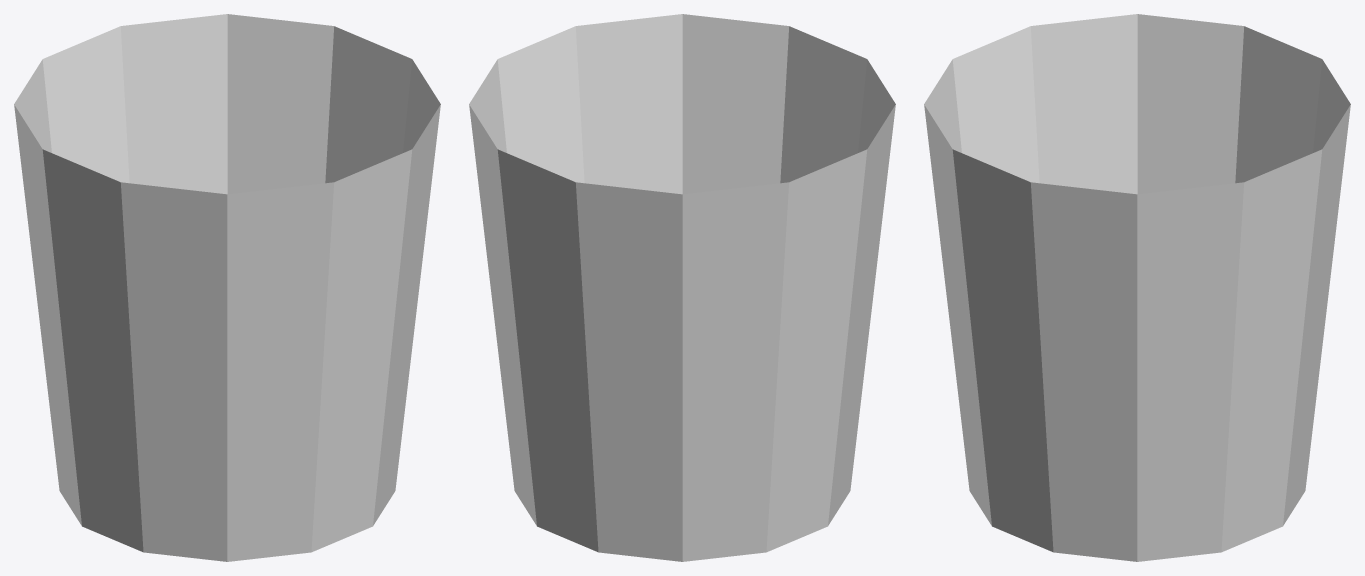
The model's file is pickup.fbx.
3 renders of one model, left to right at view 1: azimuth 30°, elevation 25°; view 2: azimuth 150°, elevation 25°; view 3: azimuth 270°, elevation 25°, orthographic.
Visible parts, largest first — view 1: Cylinder; view 2: Cylinder; view 3: Cylinder.
Part boxes in pixels (left/top/right/bottom): Cylinder: left=14, top=14, right=440, bottom=561; Cylinder: left=469, top=14, right=895, bottom=561; Cylinder: left=924, top=14, right=1350, bottom=561.
Size of the model in its own units: 167 by 167 by 167.
